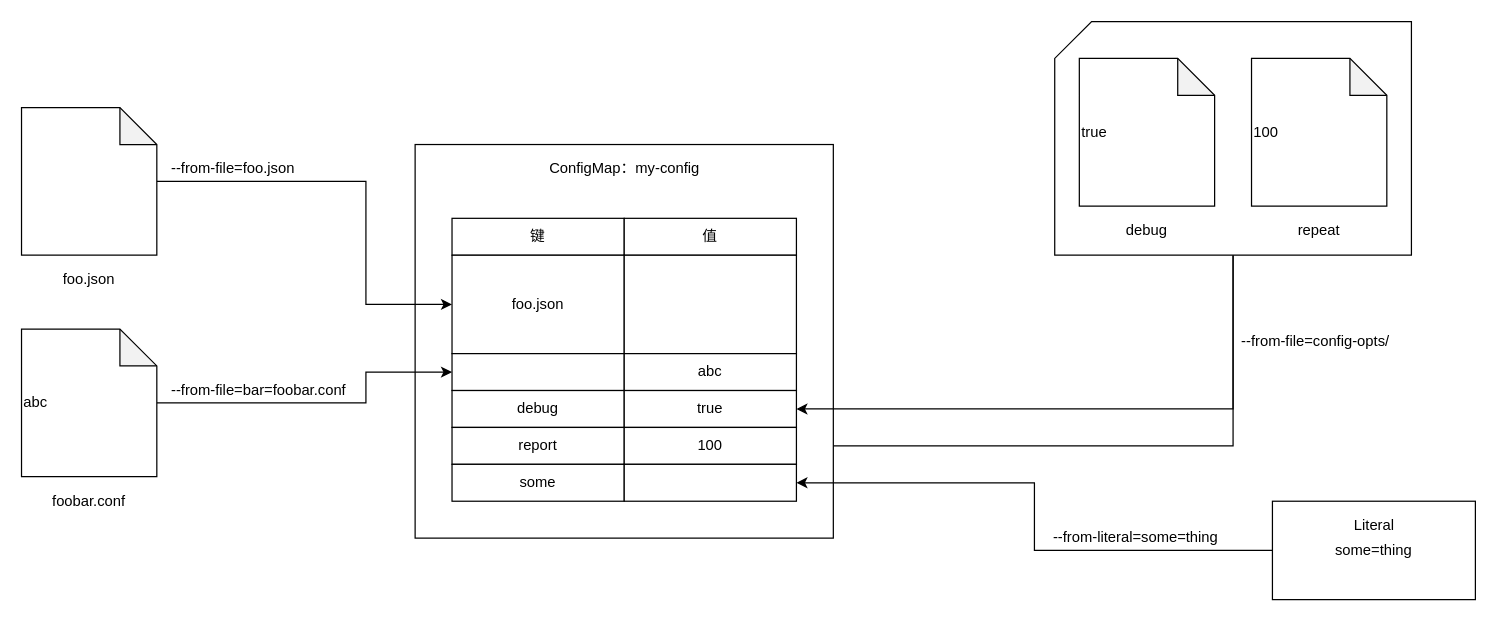
Image size: 1497x621. Some labels were removed from this diagram. The centre of each missing label's shape, as x and y in pixels:
"bar" goes at [537,371].
"thing" goes at [709,482].
"{ foo: bar baz: 5 }" goes at [88,180].
"{ foo:bar baz:5 }" goes at [709,304].
